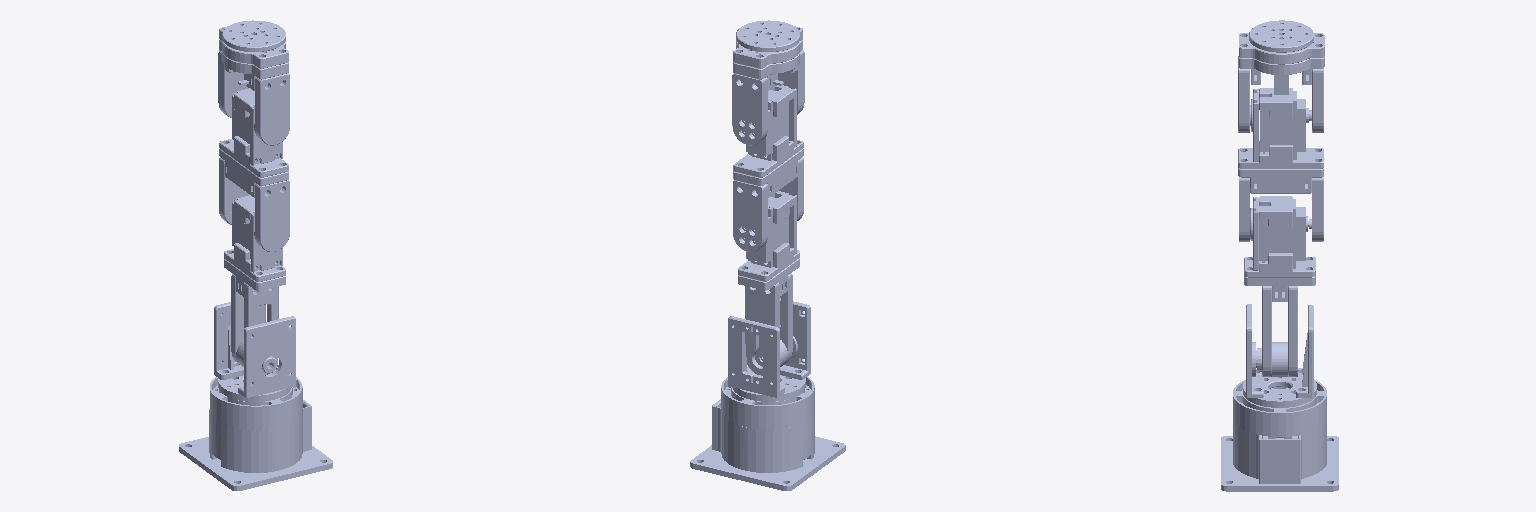
robot.urdf — Robot_Arm_URDF:
<?xml version="1.0" encoding="utf-8"?>
<!-- This URDF was automatically created by SolidWorks to URDF Exporter! Originally created by [author] ([email redacted]) 
     Commit Version: 1.6.0-4-g7f85cfe  Build Version: 1.6.7995.38578
     For more information, please see http://wiki.ros.org/sw_urdf_exporter -->
<robot
  name="Robot_Arm_URDF">
  <link
    name="base_link">
    <inertial>
      <origin
        xyz="0.00167981419229938 6.47211935710871E-05 0.0286117256120266"
        rpy="0 0 0" />
      <mass
        value="0.208993334963106" />
      <inertia
        ixx="0.000146071554614992"
        ixy="-7.53974206087624E-13"
        ixz="-7.61368540111299E-07"
        iyy="0.00016127704980574"
        iyz="2.54283923386769E-08"
        izz="0.000251457093191278" />
    </inertial>
    <visual>
      <origin
        xyz="0 0 0"
        rpy="0 0 0" />
      <geometry>
        <mesh
          filename="package://Robot_Arm_URDF/meshes/base_link.STL" />
      </geometry>
      <material
        name="">
        <color
          rgba="0.792156862745098 0.819607843137255 0.933333333333333 1" />
      </material>
    </visual>
    <collision>
      <origin
        xyz="0 0 0"
        rpy="0 0 0" />
      <geometry>
        <mesh
          filename="package://Robot_Arm_URDF/meshes/base_link.STL" />
      </geometry>
    </collision>
  </link>
  <link
    name="Link_1">
    <inertial>
      <origin
        xyz="9.89955968762335E-12 -0.00149066382813459 0.023813834252143"
        rpy="0 0 0" />
      <mass
        value="0.0459065811899164" />
      <inertia
        ixx="1.80051627611035E-05"
        ixy="-1.11989261123787E-14"
        ixz="5.62689030622863E-14"
        iyy="2.49369158889534E-05"
        iyz="3.30169256590289E-08"
        izz="1.57950935796408E-05" />
    </inertial>
    <visual>
      <origin
        xyz="0 0 0"
        rpy="0 0 0" />
      <geometry>
        <mesh
          filename="package://Robot_Arm_URDF/meshes/Link_1.STL" />
      </geometry>
      <material
        name="">
        <color
          rgba="0.792156862745098 0.819607843137255 0.933333333333333 1" />
      </material>
    </visual>
    <collision>
      <origin
        xyz="0 0 0"
        rpy="0 0 0" />
      <geometry>
        <mesh
          filename="package://Robot_Arm_URDF/meshes/Link_1.STL" />
      </geometry>
    </collision>
  </link>
  <joint
    name="Joint_0"
    type="revolute">
    <origin
      xyz="-0.001 0 0.0686"
      rpy="0 0 0" />
    <parent
      link="base_link" />
    <child
      link="Link_1" />
    <axis
      xyz="0 0 1" />
    <limit
      lower="-1.57"
      upper="1.57"
      effort="0"
      velocity="0" />
  </joint>
  <link
    name="Link_2">
    <inertial>
      <origin
        xyz="2.84986195449657E-10 0.0756453012159297 0.000594162847007313"
        rpy="0 0 0" />
      <mass
        value="0.127836737110903" />
      <inertia
        ixx="4.58773819783129E-05"
        ixy="-6.75194446043959E-14"
        ixz="-1.14304771619058E-12"
        iyy="2.09726161475232E-05"
        iyz="6.01488176891403E-07"
        izz="4.17836702398218E-05" />
    </inertial>
    <visual>
      <origin
        xyz="0 0 0"
        rpy="0 0 0" />
      <geometry>
        <mesh
          filename="package://Robot_Arm_URDF/meshes/Link_2.STL" />
      </geometry>
      <material
        name="">
        <color
          rgba="0.792156862745098 0.819607843137255 0.933333333333333 1" />
      </material>
    </visual>
    <collision>
      <origin
        xyz="0 0 0"
        rpy="0 0 0" />
      <geometry>
        <mesh
          filename="package://Robot_Arm_URDF/meshes/Link_2.STL" />
      </geometry>
    </collision>
  </link>
  <joint
    name="Joint_1"
    type="revolute">
    <origin
      xyz="0 0 0.0305"
      rpy="1.5708 0 0" />
    <parent
      link="Link_1" />
    <child
      link="Link_2" />
    <axis
      xyz="0 0 1" />
    <limit
      lower="0"
      upper="3.1416"
      effort="0"
      velocity="0" />
  </joint>
  <link
    name="LinK_3">
    <inertial>
      <origin
        xyz="3.28474803997295E-10 0.0597292296297967 0.000316042486816973"
        rpy="0 0 0" />
      <mass
        value="0.125886467693022" />
      <inertia
        ixx="4.01958909359151E-05"
        ixy="-1.0277777371492E-13"
        ixz="-1.03433492911693E-12"
        iyy="2.95892908035324E-05"
        iyz="-2.85211521056863E-07"
        izz="2.7775199110612E-05" />
    </inertial>
    <visual>
      <origin
        xyz="0 0 0"
        rpy="0 0 0" />
      <geometry>
        <mesh
          filename="package://Robot_Arm_URDF/meshes/LinK_3.STL" />
      </geometry>
      <material
        name="">
        <color
          rgba="0.792156862745098 0.819607843137255 0.933333333333333 1" />
      </material>
    </visual>
    <collision>
      <origin
        xyz="0 0 0"
        rpy="0 0 0" />
      <geometry>
        <mesh
          filename="package://Robot_Arm_URDF/meshes/LinK_3.STL" />
      </geometry>
    </collision>
  </link>
  <joint
    name="Joint_2"
    type="revolute">
    <origin
      xyz="0 0.126 0"
      rpy="0 0 0" />
    <parent
      link="Link_2" />
    <child
      link="LinK_3" />
    <axis
      xyz="0 0 1" />
    <limit
      lower="0"
      upper="3.1416"
      effort="0"
      velocity="0" />
  </joint>
  <link
    name="Link_4">
    <inertial>
      <origin
        xyz="0.000262042609690324 0.0399996944961469 -0.000302854759390298"
        rpy="0 0 0" />
      <mass
        value="0.0911239025710441" />
      <inertia
        ixx="3.36589391224374E-05"
        ixy="9.90529975707665E-08"
        ixz="4.85285409404086E-14"
        iyy="3.18623083979145E-05"
        iyz="-2.44528462815815E-07"
        izz="2.43949987617596E-05" />
    </inertial>
    <visual>
      <origin
        xyz="0 0 0"
        rpy="0 0 0" />
      <geometry>
        <mesh
          filename="package://Robot_Arm_URDF/meshes/Link_4.STL" />
      </geometry>
      <material
        name="">
        <color
          rgba="0.792156862745098 0.819607843137255 0.933333333333333 1" />
      </material>
    </visual>
    <collision>
      <origin
        xyz="0 0 0"
        rpy="0 0 0" />
      <geometry>
        <mesh
          filename="package://Robot_Arm_URDF/meshes/Link_4.STL" />
      </geometry>
    </collision>
  </link>
  <joint
    name="Joint_3"
    type="revolute">
    <origin
      xyz="0 0.101 0"
      rpy="0 0 0" />
    <parent
      link="LinK_3" />
    <child
      link="Link_4" />
    <axis
      xyz="0 0 1" />
    <limit
      lower="0"
      upper="3.1416"
      effort="0"
      velocity="0" />
  </joint>
  <link
    name="Link_5">
    <inertial>
      <origin
        xyz="2.03396327558281E-16 3.59998489352087E-15 0.010110034999088"
        rpy="0 0 0" />
      <mass
        value="0.0158680457964435" />
      <inertia
        ixx="2.57485098820088E-06"
        ixy="-5.07419555577374E-16"
        ixz="-1.42357879511555E-22"
        iyy="2.60890328905504E-06"
        iyz="-1.32948562259951E-22"
        izz="4.68375833103543E-06" />
    </inertial>
    <visual>
      <origin
        xyz="0 0 0"
        rpy="0 0 0" />
      <geometry>
        <mesh
          filename="package://Robot_Arm_URDF/meshes/Link_5.STL" />
      </geometry>
      <material
        name="">
        <color
          rgba="0.792156862745098 0.819607843137255 0.933333333333333 1" />
      </material>
    </visual>
    <collision>
      <origin
        xyz="0 0 0"
        rpy="0 0 0" />
      <geometry>
        <mesh
          filename="package://Robot_Arm_URDF/meshes/Link_5.STL" />
      </geometry>
    </collision>
  </link>
  <joint
    name="Joint_4"
    type="revolute">
    <origin
      xyz="0 0.061 -0.00135"
      rpy="1.5708 -1.5708 3.1416" />
    <parent
      link="Link_4" />
    <child
      link="Link_5" />
    <axis
      xyz="0 0 1" />
    <limit
      lower="-1.57"
      upper="3.1416"
      effort="0"
      velocity="0" />
  </joint>
</robot>

--- What the picture shows (computed from the rendered views, not written in the file) ---
3 views of the same robot in one strip: view 1: azimuth 30°, elevation 25°; view 2: azimuth 150°, elevation 25°; view 3: azimuth 270°, elevation 25° (orthographic).
Robot: Robot_Arm_URDF — 6 links, 5 joints (5 revolute); root link base_link; default pose: every joint at zero.
Visible links, largest first — view 1: base_link, LinK_3, Link_2, Link_1, Link_4, Link_5; view 2: base_link, LinK_3, Link_2, Link_1, Link_4, Link_5; view 3: base_link, Link_2, LinK_3, Link_4, Link_1, Link_5.
Boxes of the visible links, box(x1,y1,x2,y2) form: base_link: box(179, 374, 332, 490); LinK_3: box(219, 88, 289, 251); Link_2: box(224, 195, 285, 375); Link_1: box(214, 302, 295, 401); Link_4: box(218, 26, 289, 145); Link_5: box(222, 20, 285, 51); base_link: box(690, 376, 845, 490); LinK_3: box(733, 85, 803, 251); Link_2: box(738, 191, 799, 375); Link_1: box(728, 298, 810, 401); Link_4: box(732, 26, 804, 145); Link_5: box(736, 20, 799, 51); base_link: box(1221, 380, 1338, 491); Link_2: box(1244, 196, 1315, 376); LinK_3: box(1238, 88, 1323, 241); Link_4: box(1238, 33, 1324, 132); Link_1: box(1243, 304, 1316, 407); Link_5: box(1249, 20, 1313, 52).
Size in the robot's own frame: 0.1 by 0.1 by 0.4021 metres.
6 mesh visuals loaded from 6 distinct referenced files (6 binary STL).